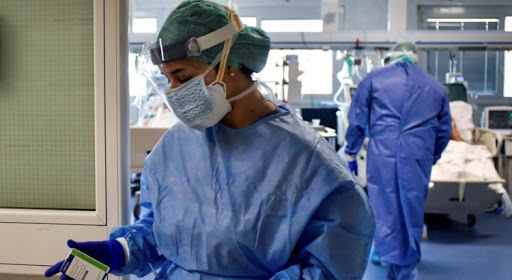barbijo: (154, 69, 239, 131)
